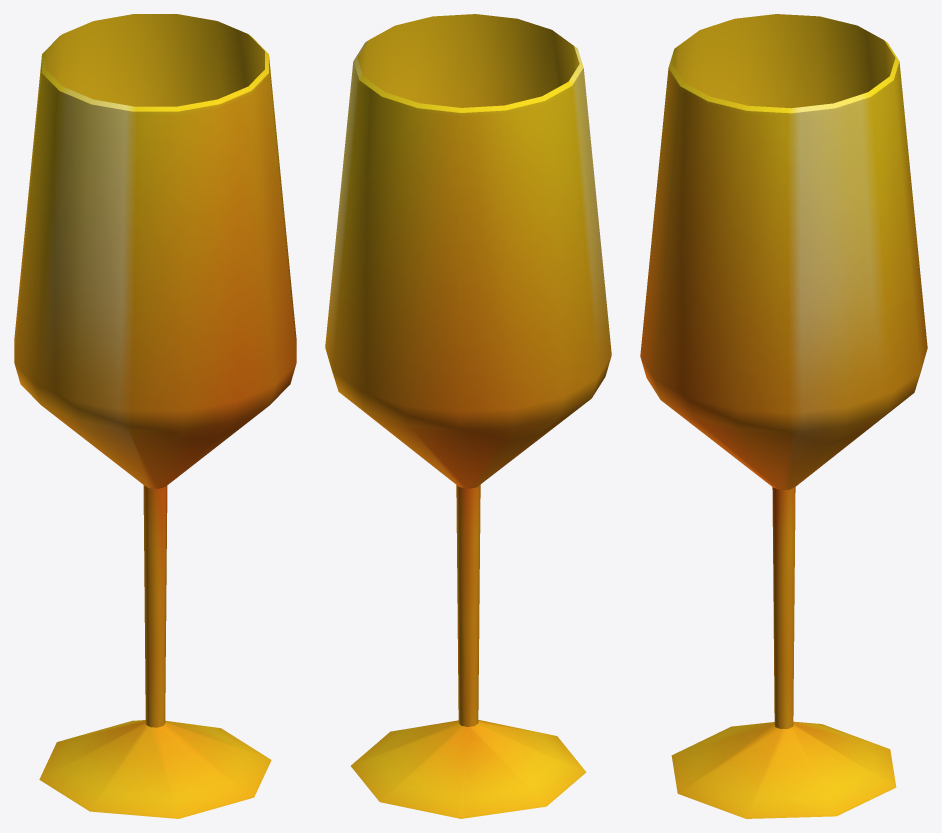
Rendered from TouKuiZheJia_01_beizi_03_UV2.FBX.
The picture shows the model from 3 angles, left to right: view 1: azimuth 30°, elevation 25°; view 2: azimuth 150°, elevation 25°; view 3: azimuth 270°, elevation 25°; orthographic projection.
Parts seen in each view (by area): view 1: TouKuiZheJia_beizi_03; view 2: TouKuiZheJia_beizi_03; view 3: TouKuiZheJia_beizi_03.
Boxes of the visible parts, <box> form: TouKuiZheJia_beizi_03: <box>14,14,296,818</box>; TouKuiZheJia_beizi_03: <box>325,14,611,818</box>; TouKuiZheJia_beizi_03: <box>640,14,927,818</box>.
Size of the model in its own units: 31.76 by 86.62 by 31.76.
Materials: 1 (1 with a texture image).
